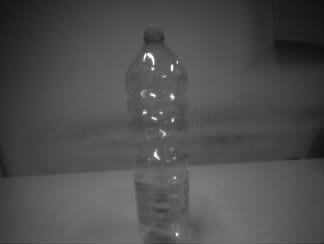Bottle: (123, 24, 193, 244)
